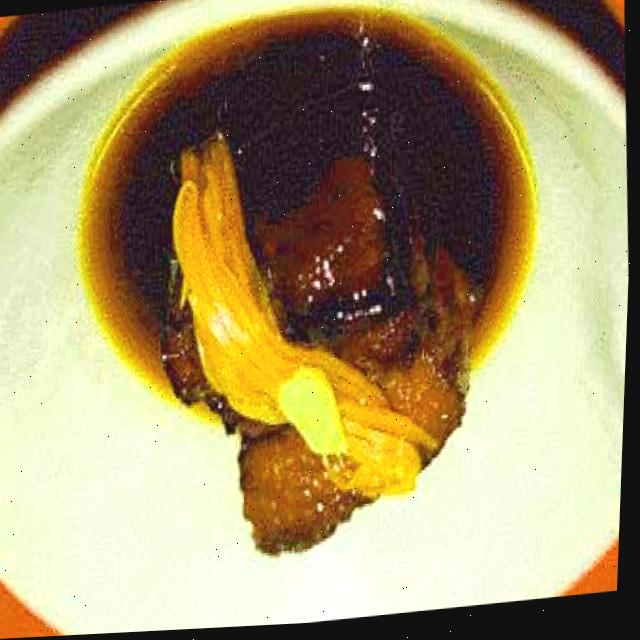猪肉菜式: (21, 103, 552, 625)
